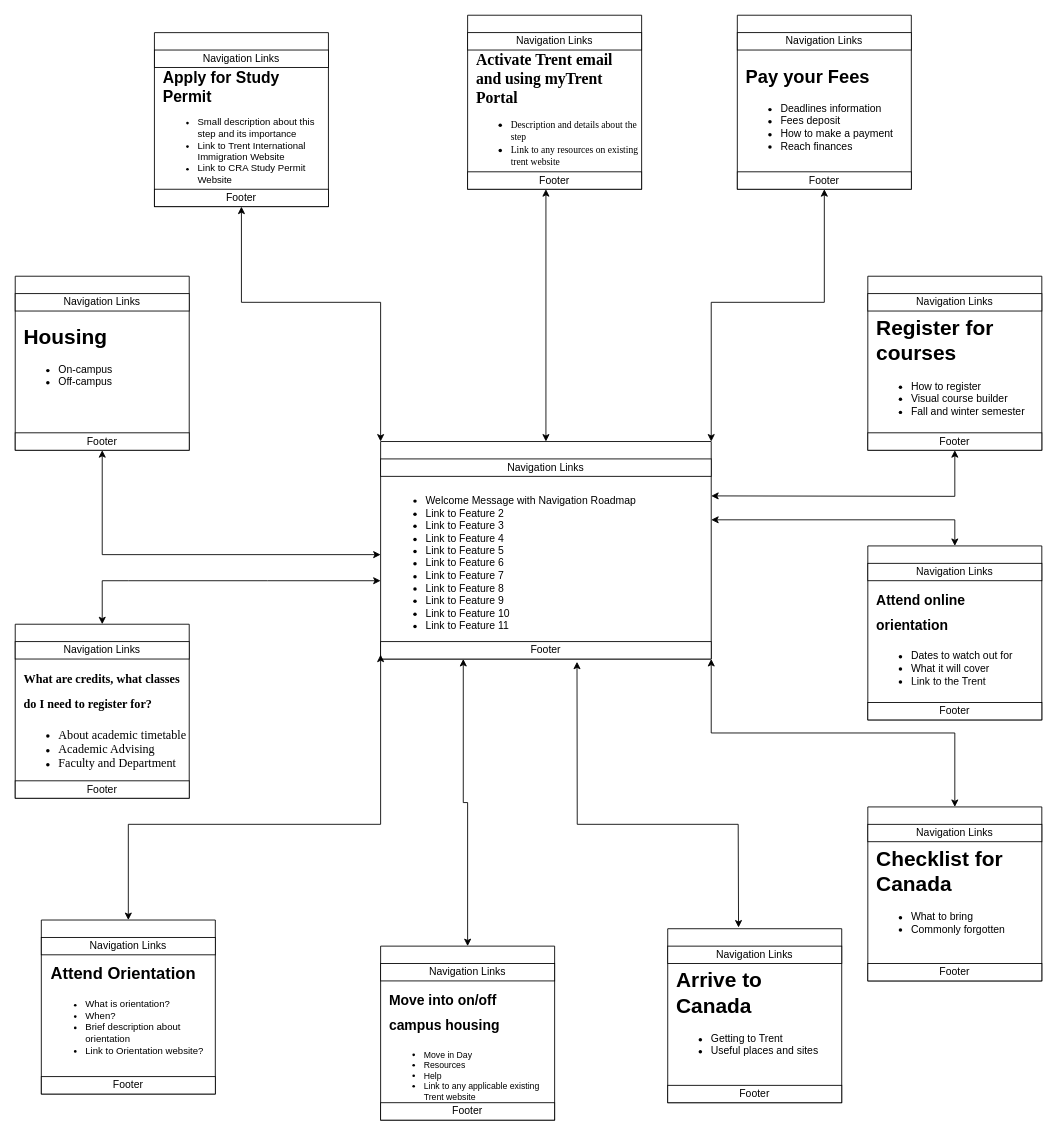
The diagram is 1057 pixels wide and 1135 high, and some of its shapes have lost their labels. Each missing label, with the box of its shape:
Feature 10: (667, 928, 842, 1103)
Feature 11: (380, 945, 555, 1120)
Feature 12: (40, 919, 215, 1094)
Feature 2: (154, 32, 328, 207)
Feature 3: (467, 14, 642, 189)
Feature 4: (736, 14, 911, 189)
Feature 5: (14, 275, 189, 450)
Feature 6: (14, 623, 189, 798)
Feature 7: (867, 275, 1042, 450)
Feature 8: (867, 545, 1042, 720)
Feature 9: (867, 806, 1042, 981)
Landing Page/Home Page (Feature 1): (380, 441, 711, 659)
